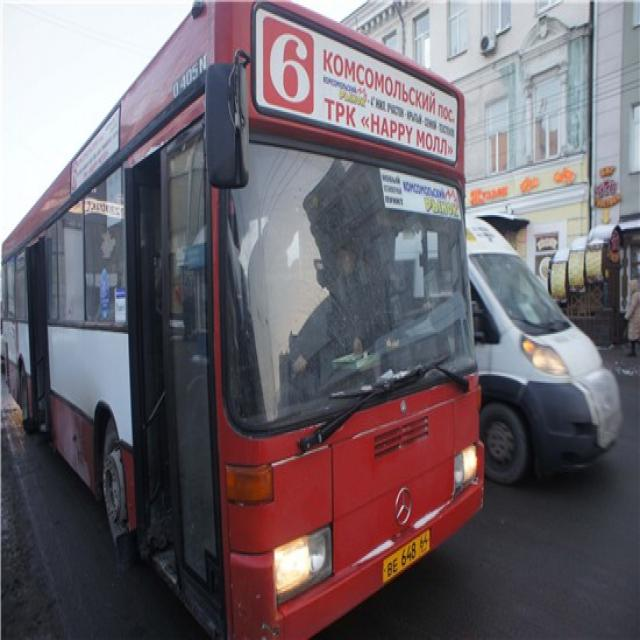number-of-bus: (267, 19, 313, 116)
